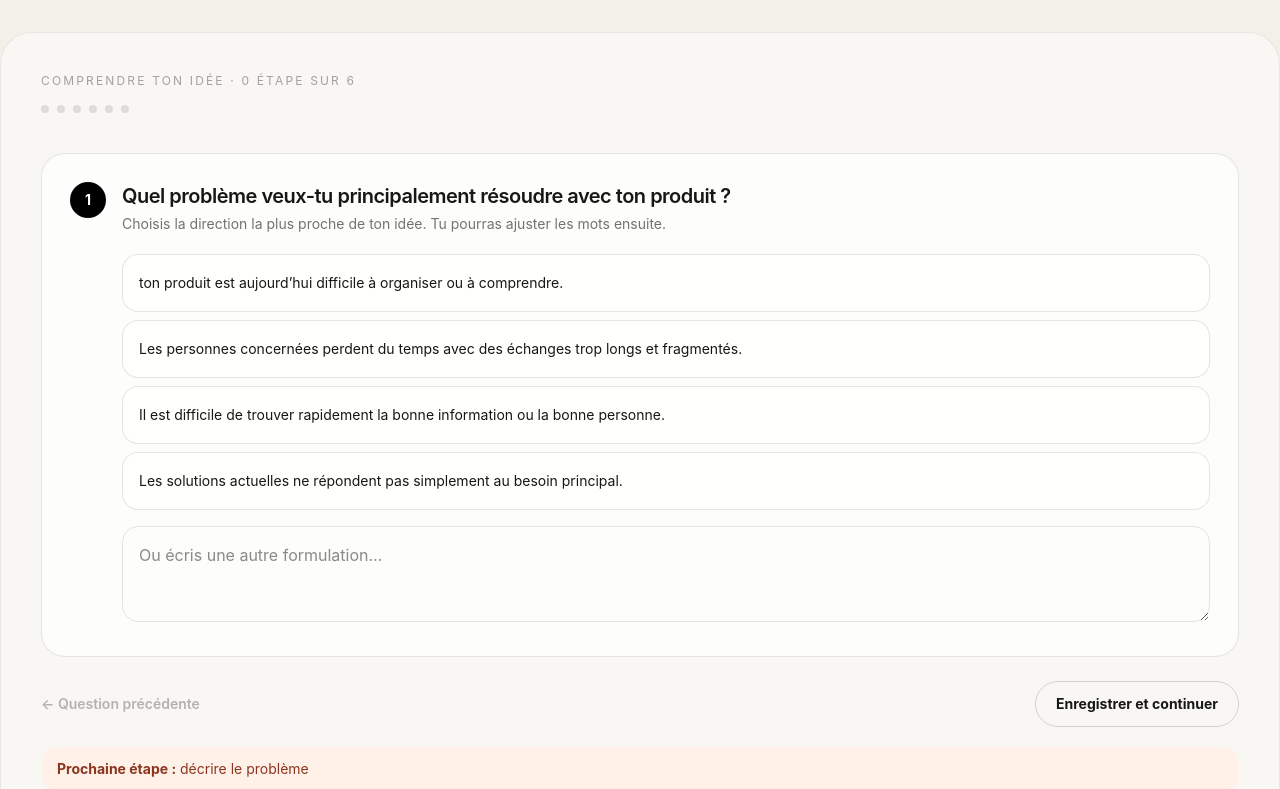
it: AnalyzeWorkspace guided journey › asks a plain-language question and saves the answer without manual criteria
Click the button "échanges trop longs" at (666, 349), box [122,320,1210,378]
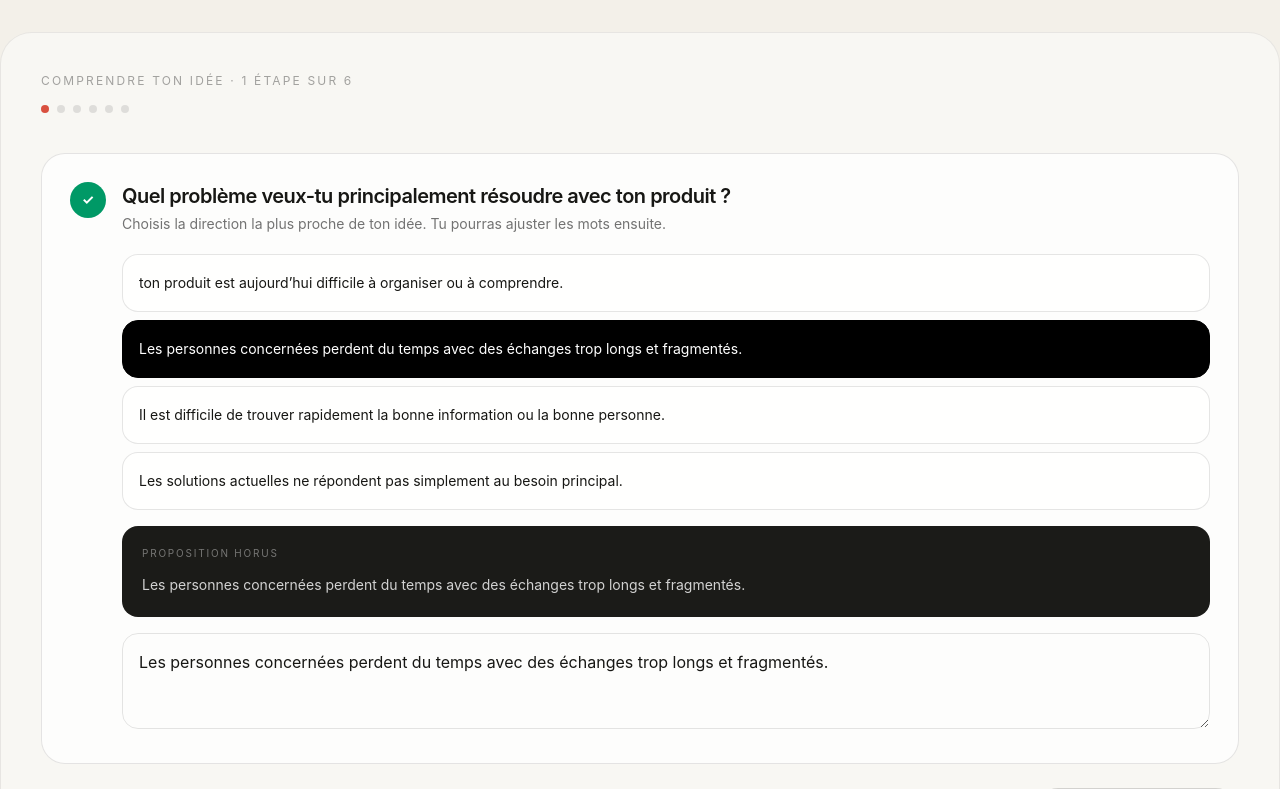
Replace the text in the text box named "modifier la formulation du problème" with "Je perds le fil de mes projets" at (666, 681), box [122,633,1210,729]
(page scrolled)
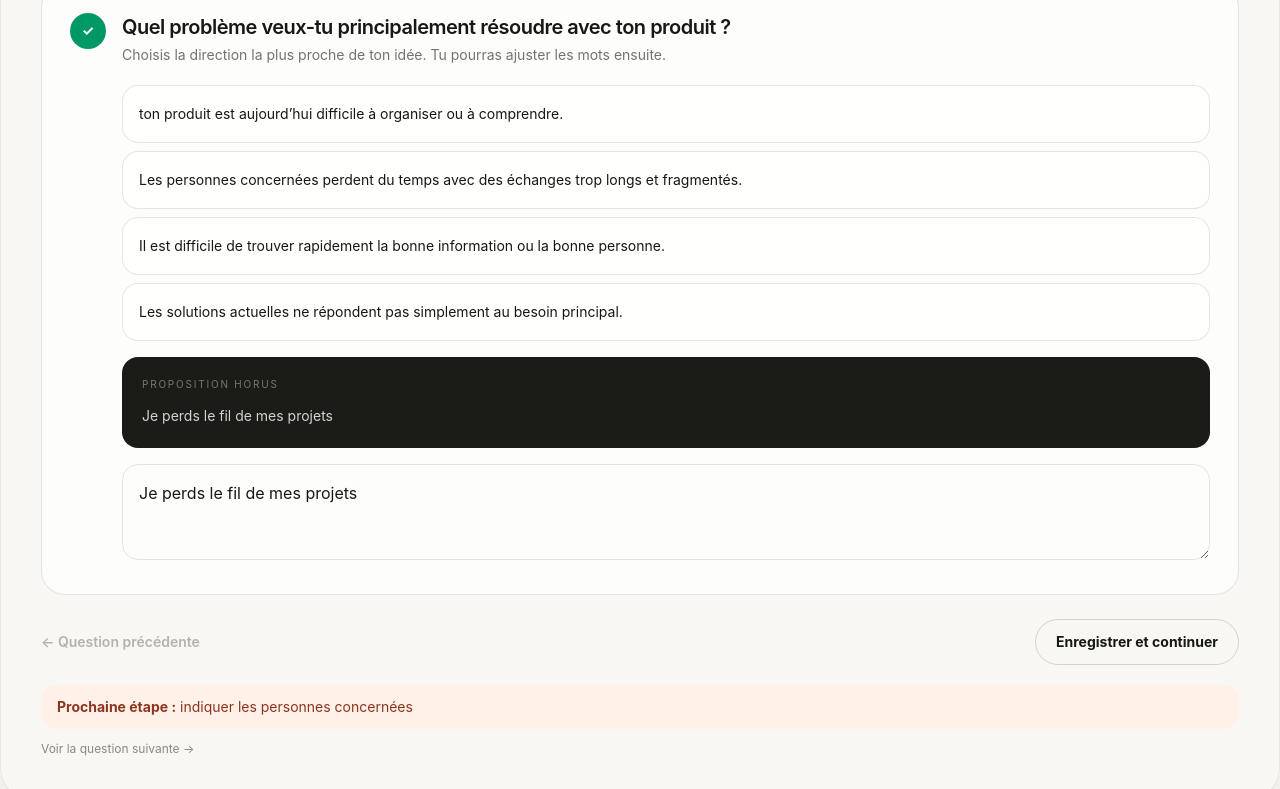
Click the button "Enregistrer et continuer" at (1137, 642), box [1035,619,1239,665]
(page scrolled)
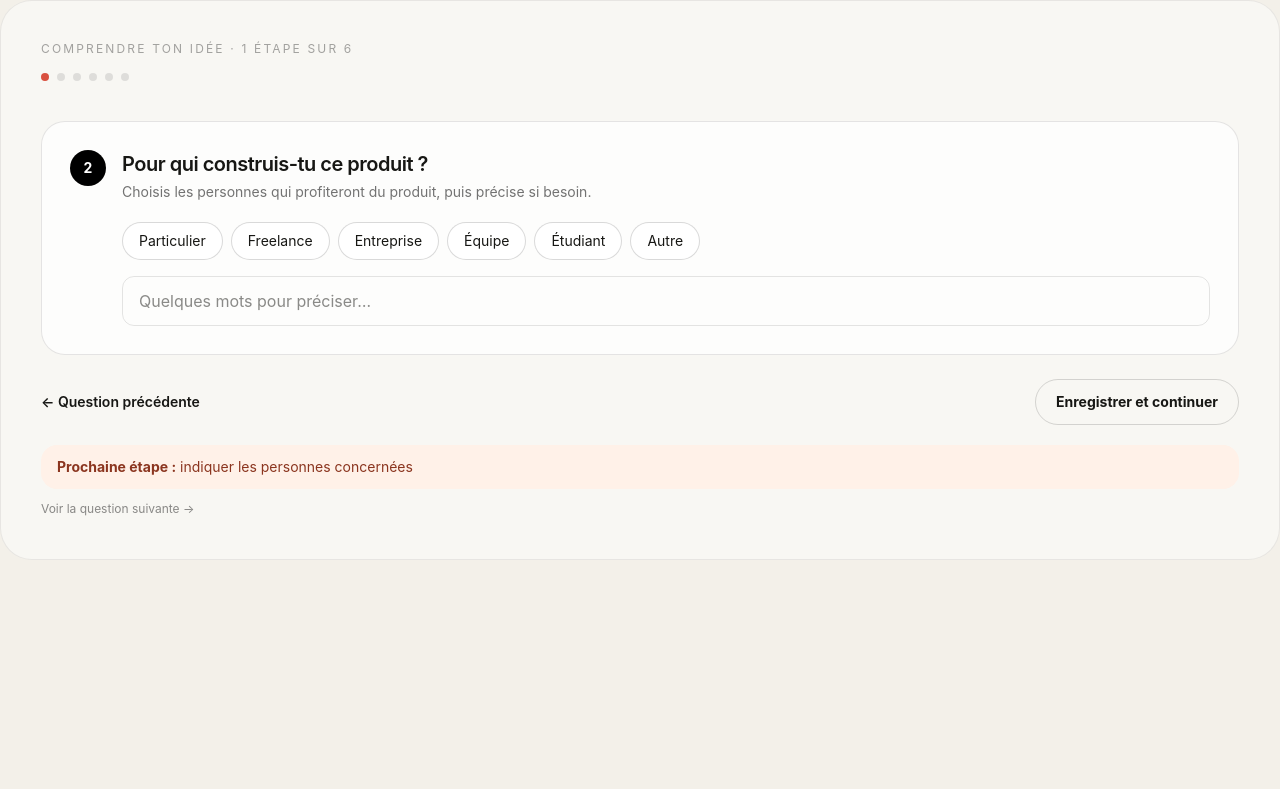
Now the heading "Pour qui construis-tu ce produit ?" is shown, box [122,152,428,176]
